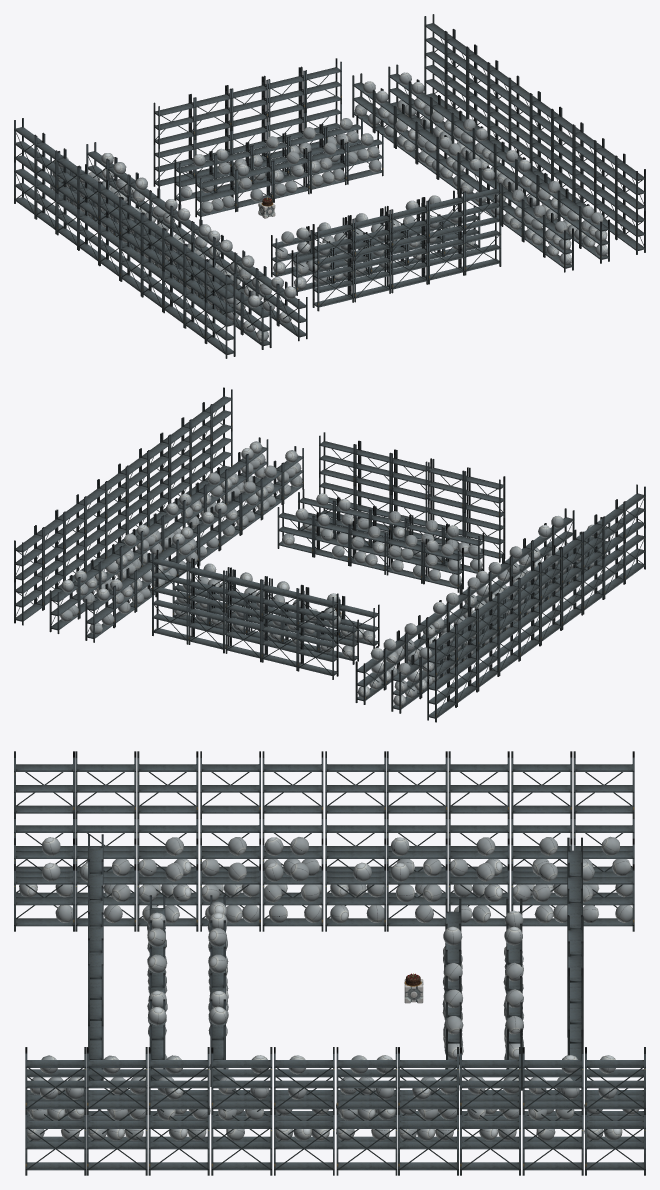
The model's file is StorageRoom.obj.
3 renders of one model, top to bottom at view 1: azimuth 30°, elevation 25°; view 2: azimuth 150°, elevation 25°; view 3: azimuth 270°, elevation 25°, orthographic. The views are drawn at different scales.
Parts seen in each view (by area): view 1: Body_gladosroom_shelves_reference.smd, Body_gladosroom_spheremid_reference.smd, Body_gladosroom_spherecenter_reference.smd; view 2: Body_gladosroom_shelves_reference.smd, Body_gladosroom_spheremid_reference.smd, Body_gladosroom_spherecenter_reference.smd; view 3: Body_gladosroom_shelves_reference.smd, Body_gladosroom_spheremid_reference.smd, Body_gladosroom_spherecenter_reference.smd.
Part boxes in pixels (x1,y1,x2,y2): Body_gladosroom_shelves_reference.smd: (14, 14, 645, 358); Body_gladosroom_spheremid_reference.smd: (51, 72, 607, 341); Body_gladosroom_spherecenter_reference.smd: (153, 133, 506, 286); Body_gladosroom_shelves_reference.smd: (14, 387, 645, 722); Body_gladosroom_spheremid_reference.smd: (60, 441, 606, 706); Body_gladosroom_spherecenter_reference.smd: (151, 502, 509, 648); Body_gladosroom_shelves_reference.smd: (14, 751, 645, 1175); Body_gladosroom_spheremid_reference.smd: (19, 836, 639, 1141); Body_gladosroom_spherecenter_reference.smd: (202, 862, 463, 1115).
Size of the model in its own units: 28.64 by 5.41 by 25.3.
Materials: 4 (4 with a texture image).
